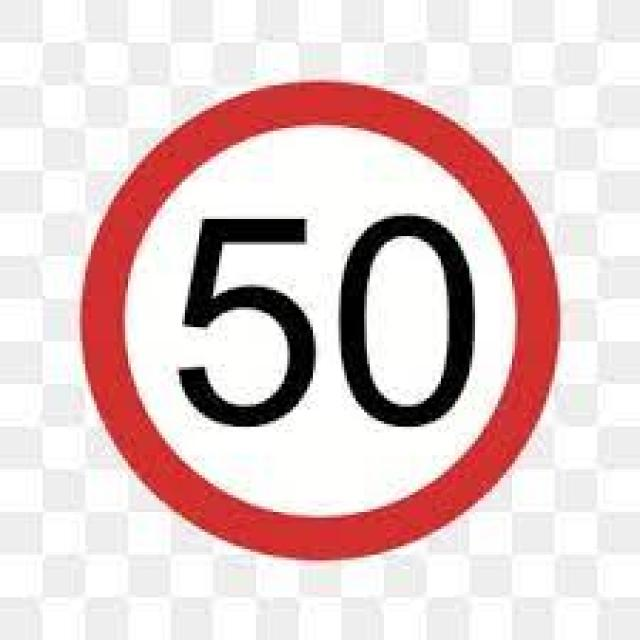SPEED_LIMIT_50: (75, 72, 565, 562)
